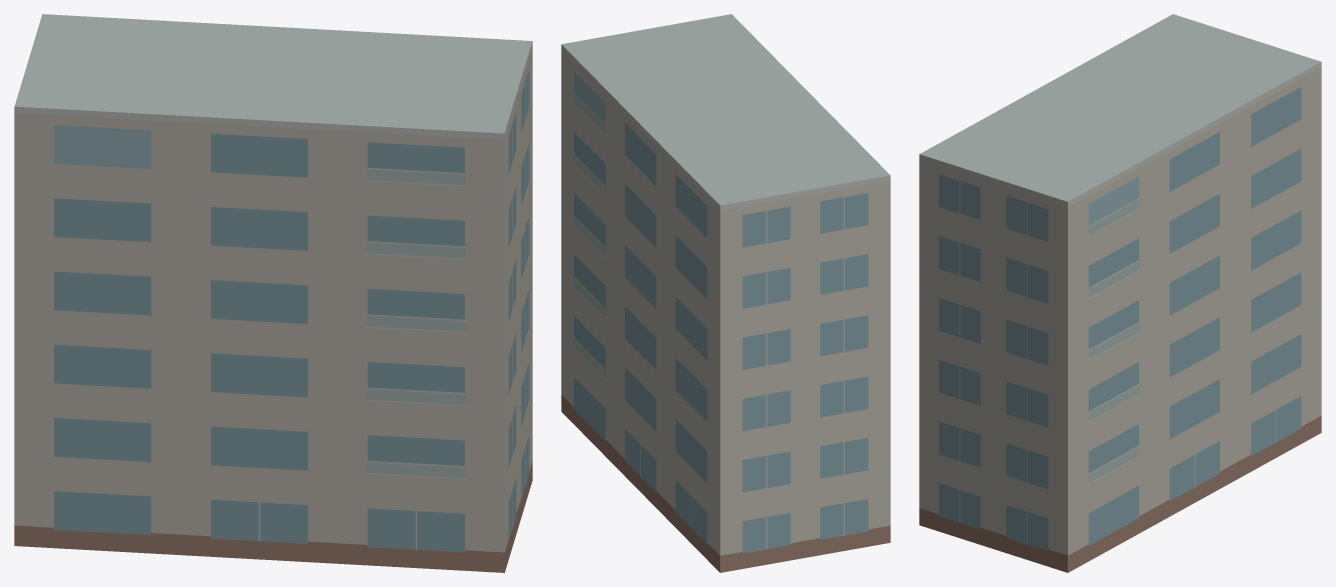
Rendered from survey-upis-32637503.glb.
3 views of the same model, side by side, from view 1: azimuth 30°, elevation 25°; view 2: azimuth 150°, elevation 25°; view 3: azimuth 270°, elevation 25° (orthographic). The views are drawn at different scales.
Visible parts, largest first — view 1: survey-upis-32637503.tmp; view 2: survey-upis-32637503.tmp; view 3: survey-upis-32637503.tmp.
Part boxes in pixels (<box>): survey-upis-32637503.tmp: <box>14,14,532,572</box>; survey-upis-32637503.tmp: <box>561,14,890,572</box>; survey-upis-32637503.tmp: <box>919,14,1321,572</box>.
Size of the model in its own units: 18.57 by 17.1 by 16.8.
